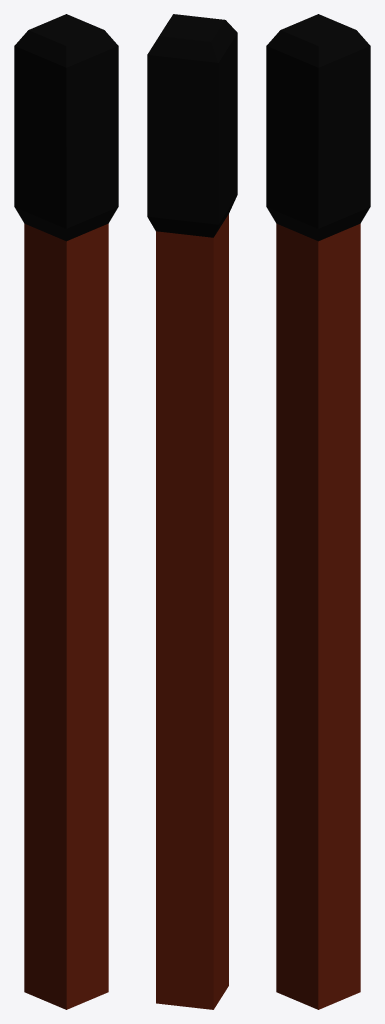
The model's file is Факел.fbx.
The picture shows the model from 3 angles, left to right: view 1: azimuth 90°, elevation 25°; view 2: azimuth 210°, elevation 25°; view 3: azimuth 270°, elevation 25°; orthographic projection.
Parts seen in each view (by area): view 1: Цилиндр, Цилиндр.002; view 2: Цилиндр, Цилиндр.002; view 3: Цилиндр, Цилиндр.002.
Boxes of the visible parts, x1,y1,x2,y2 form: Цилиндр: (24,223,108,1009); Цилиндр.002: (14,14,118,241); Цилиндр: (156,214,228,1009); Цилиндр.002: (147,14,237,237); Цилиндр: (276,223,360,1009); Цилиндр.002: (266,14,370,241).
Size of the model in its own units: 12.35 by 126 by 12.35.
